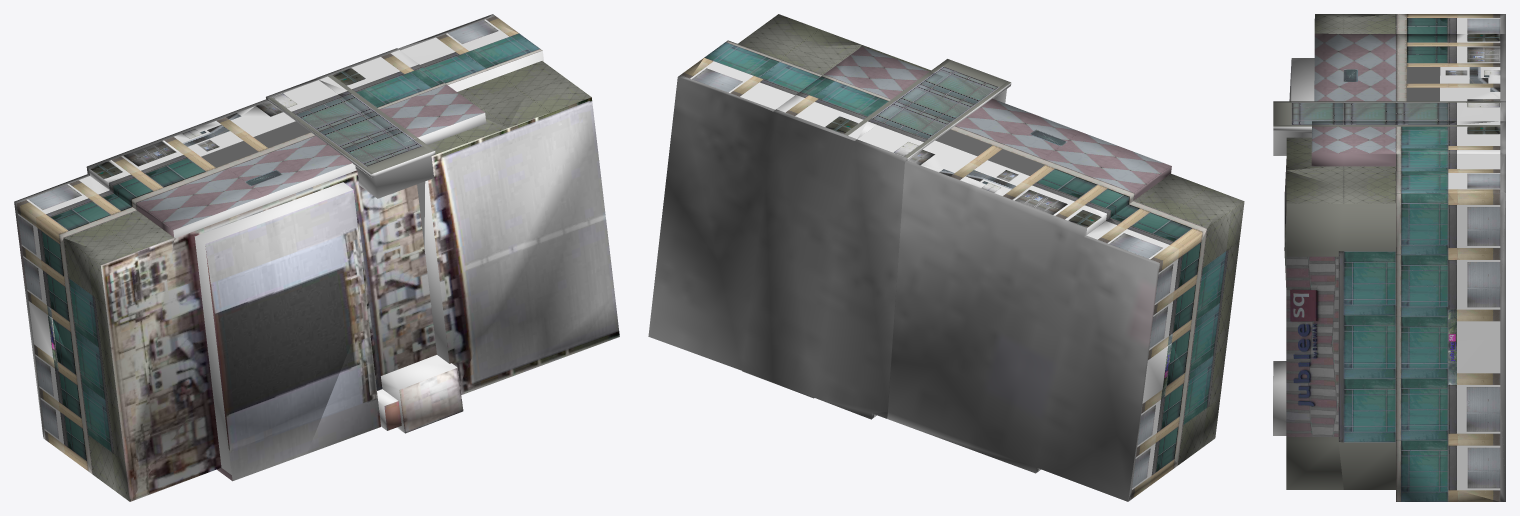
Rendered from amk_jubileesq_building.obj.
The picture shows the model from 3 angles, left to right: view 1: azimuth 30°, elevation 25°; view 2: azimuth 150°, elevation 25°; view 3: azimuth 270°, elevation 25°; orthographic projection. The views are drawn at different scales.
Parts seen in each view (by area): view 1: polygon.880; view 2: polygon.880; view 3: polygon.880.
Part boxes in pixels (x1=…): polygon.880: x1=14, y1=14, x2=619, y2=501; polygon.880: x1=648, y1=14, x2=1244, y2=501; polygon.880: x1=1273, y1=14, x2=1505, y2=501.
Size of the model in its own units: 58.85 by 34.81 by 21.22.
1 material, 1 textured.
